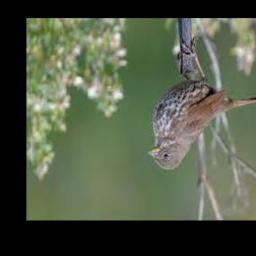Sparrow: (148, 37, 256, 171)
